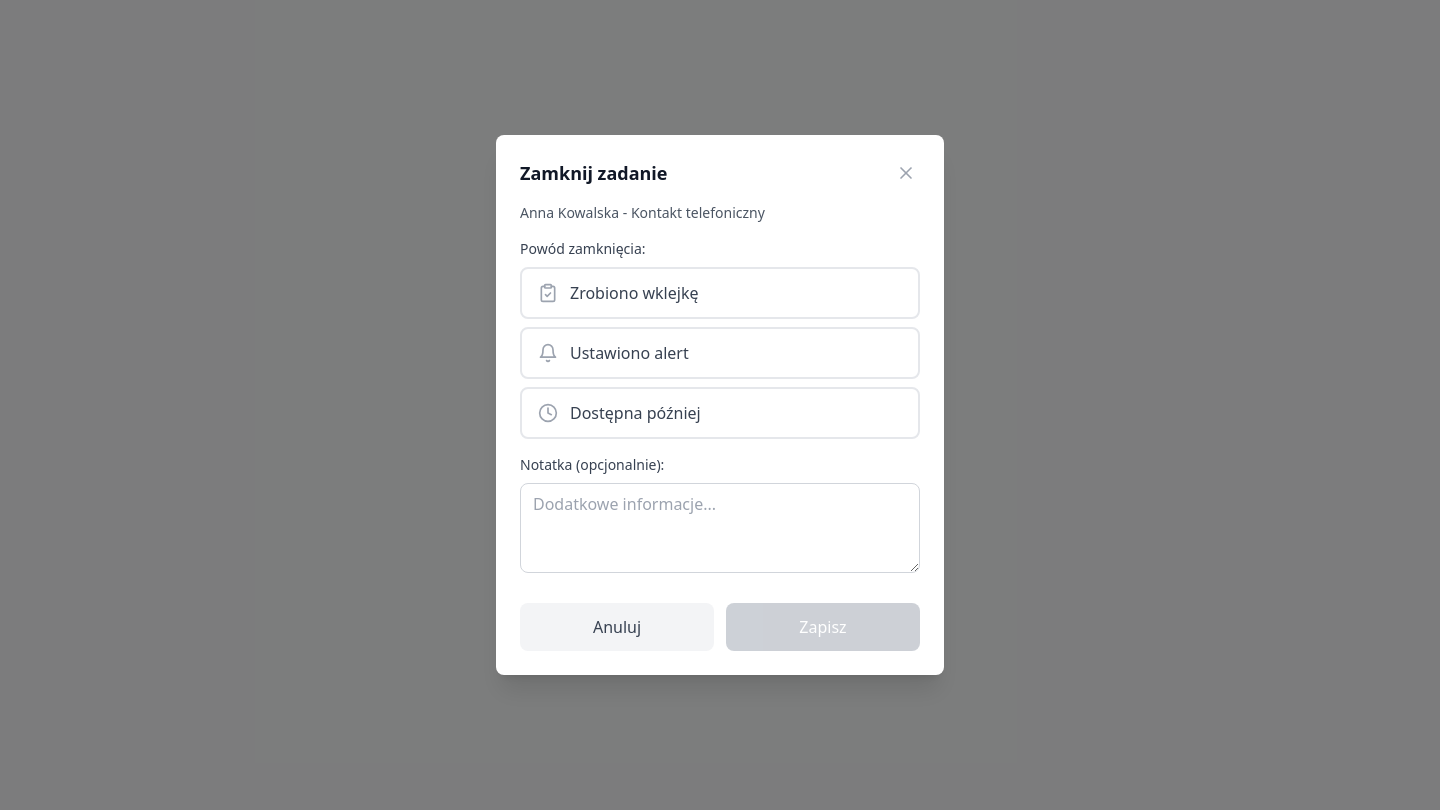
CloseTaskDialog › should enable Zapisz button when notes are typed without reason
This screenshot has width=1440, height=810.
Type "Mój własny powód" into the text box with placeholder "Dodatkowe informacje...".
click(720, 528); type("Mój własny powód")  # box x1=520 y1=483 x2=920 y2=573
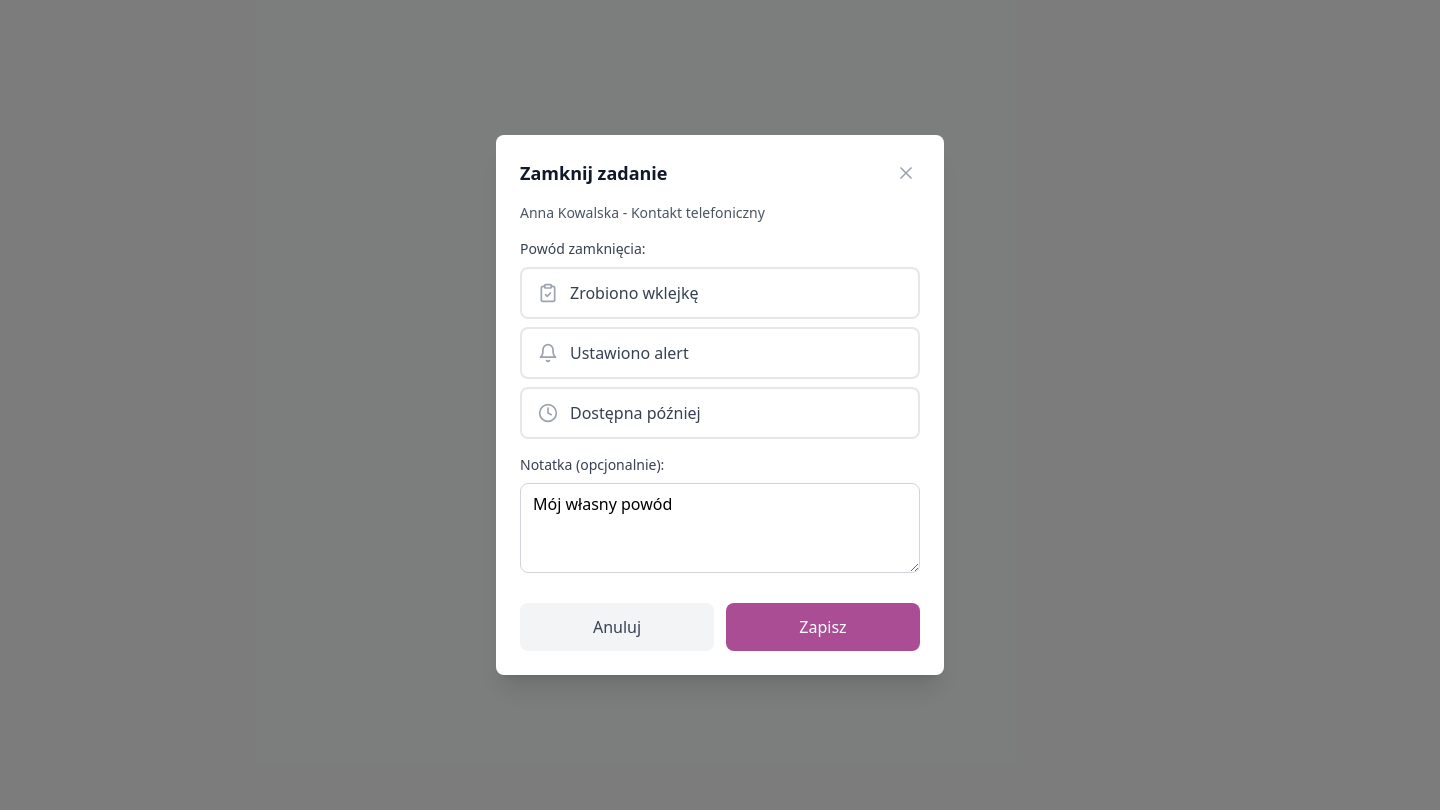
Result: the button with test id "close-task-save-custom" is enabled at x1=726 y1=603 x2=920 y2=651
